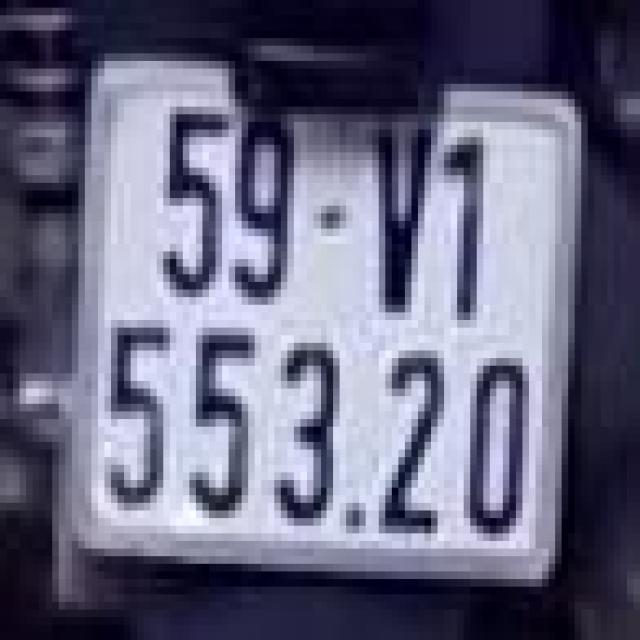0: (464, 354, 536, 537)
1: (444, 134, 496, 332)
2: (375, 335, 454, 541)
3: (271, 328, 343, 533)
5: (88, 309, 173, 514), (186, 320, 258, 541), (150, 99, 229, 297)
9: (225, 107, 304, 312)
V: (359, 114, 438, 320)
